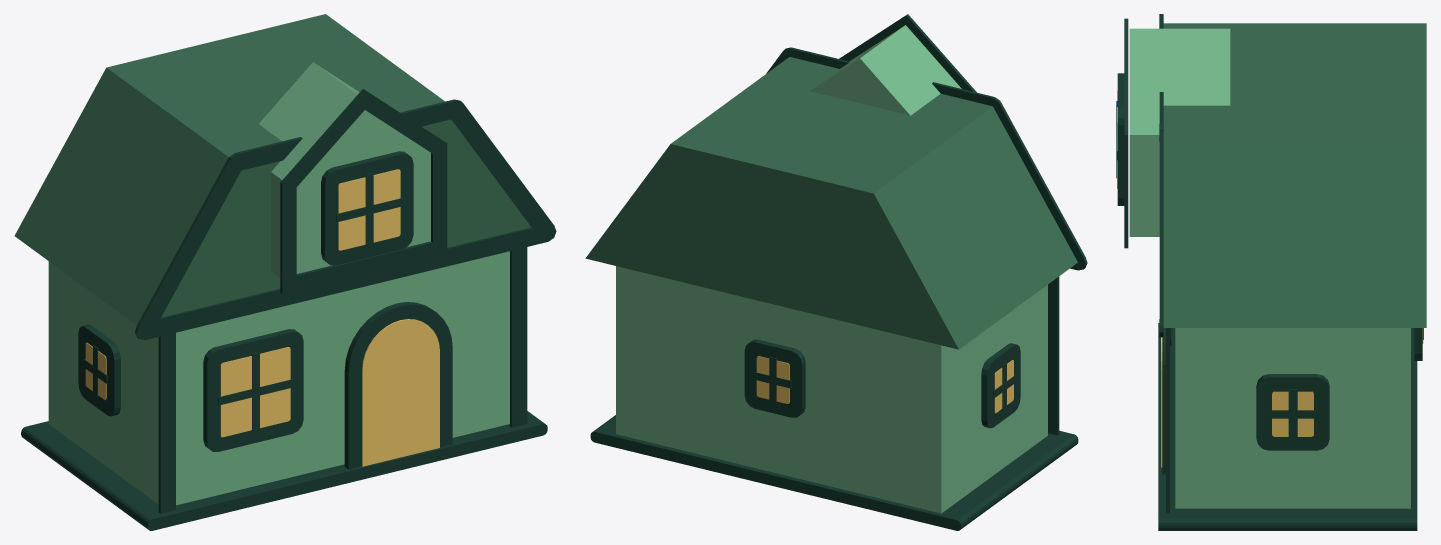
The model's file is variant-11.glb.
The picture shows the model from 3 angles, left to right: view 1: azimuth 30°, elevation 25°; view 2: azimuth 150°, elevation 25°; view 3: azimuth 270°, elevation 25°; orthographic projection. The views are drawn at different scales.
Parts seen in each view (by area): view 1: Dormer; view 2: Dormer; view 3: Dormer.
Part boxes in pixels (box(x1,y1,x2,y2)): Dormer: box(14, 14, 556, 530); Dormer: box(585, 14, 1087, 530); Dormer: box(1116, 14, 1426, 530).
Size of the model in its own units: 1.08 by 0.9987 by 0.6771.
